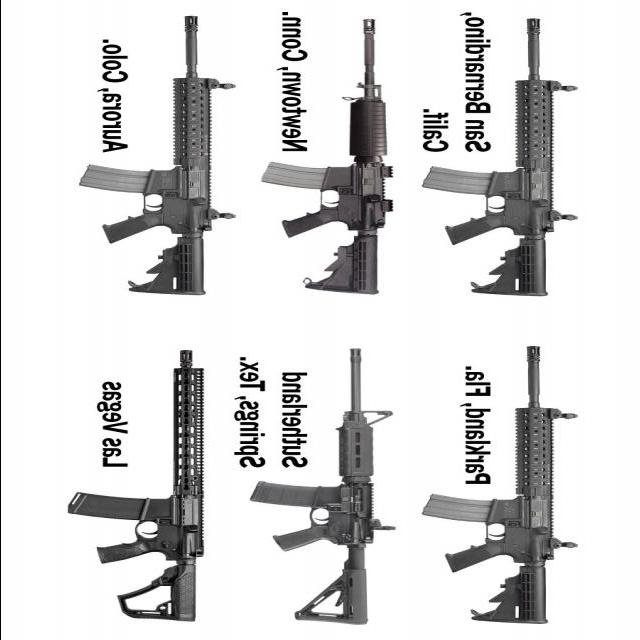rifle: (433, 25, 601, 304), (442, 342, 605, 626), (86, 8, 241, 292), (260, 336, 405, 628), (268, 18, 399, 299), (89, 340, 210, 634)
